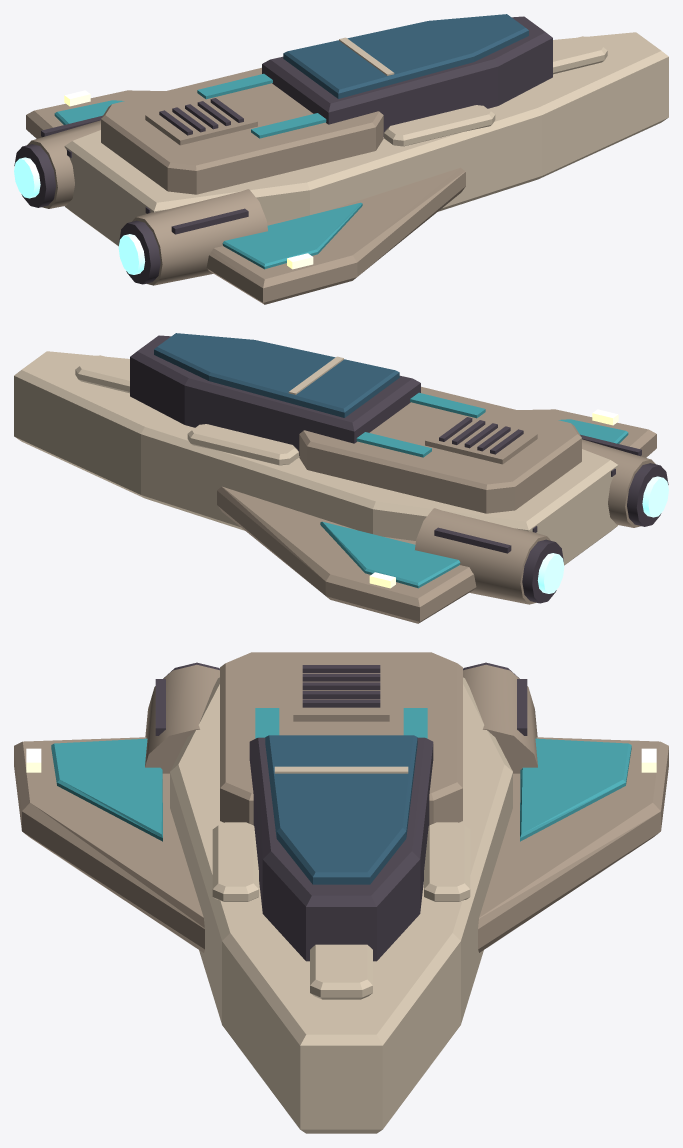
File: shuttle.glb
3 views of the same model, one above another, from view 1: azimuth 30°, elevation 25°; view 2: azimuth 150°, elevation 25°; view 3: azimuth 270°, elevation 25° (orthographic). The views are drawn at different scales.
Parts seen in each view (by area): view 1: shuttle-armor, shuttle-hull, shuttle-frame, shuttle-glass, shuttle-accent, shuttle-engine, shuttle-light; view 2: shuttle-armor, shuttle-hull, shuttle-frame, shuttle-glass, shuttle-accent, shuttle-engine, shuttle-light; view 3: shuttle-hull, shuttle-armor, shuttle-frame, shuttle-glass, shuttle-accent, shuttle-light.
Boxes of the visible parts, bbox=[...] form: shuttle-armor: bbox=[26, 67, 465, 304]; shuttle-hull: bbox=[64, 32, 668, 246]; shuttle-frame: bbox=[14, 16, 552, 284]; shuttle-glass: bbox=[283, 14, 528, 98]; shuttle-accent: bbox=[54, 73, 362, 269]; shuttle-engine: bbox=[14, 157, 145, 274]; shuttle-light: bbox=[64, 90, 313, 269]; shuttle-armor: bbox=[217, 386, 656, 623]; shuttle-hull: bbox=[14, 351, 618, 565]; shuttle-frame: bbox=[130, 335, 668, 603]; shuttle-glass: bbox=[154, 333, 399, 417]; shuttle-accent: bbox=[320, 392, 628, 588]; shuttle-engine: bbox=[537, 476, 668, 593]; shuttle-light: bbox=[369, 409, 618, 588]; shuttle-hull: bbox=[170, 677, 512, 1133]; shuttle-armor: bbox=[14, 652, 668, 952]; shuttle-frame: bbox=[155, 662, 527, 961]; shuttle-glass: bbox=[265, 735, 417, 884]; shuttle-accent: bbox=[51, 708, 631, 841]; shuttle-light: bbox=[26, 748, 656, 772].
Bounding box in the file's own units: 4.97 × 1.26 × 3.53.
